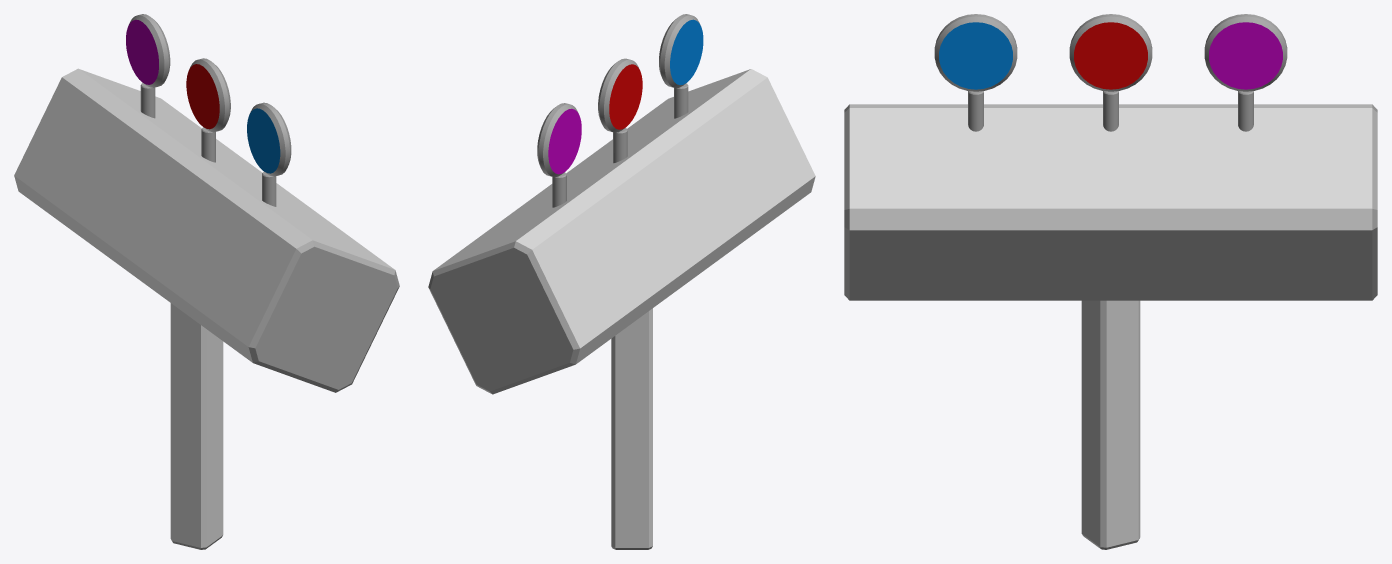
Rendered from WW_DrinkStand_Prop.fbx.
The picture shows the model from 3 angles, left to right: view 1: azimuth 30°, elevation 25°; view 2: azimuth 150°, elevation 25°; view 3: azimuth 270°, elevation 25°; orthographic projection. The views are drawn at different scales.
Visible parts, largest first — view 1: DrinkBase, DrinkBase1, DrinkSign (×3), DrinkSignBase; view 2: DrinkBase, DrinkBase1, DrinkSign (×3); view 3: DrinkBase, DrinkSign (×3), DrinkBase1.
Part boxes in pixels (x1=…): DrinkBase: x1=14, y1=68, x2=399, y2=392; DrinkBase1: x1=170, y1=303, x2=223, y2=549; DrinkSign (×3): x1=126, y1=14, x2=291, y2=176; DrinkSignBase: x1=140, y1=83, x2=155, y2=118; DrinkBase: x1=428, y1=69, x2=815, y2=394; DrinkBase1: x1=611, y1=308, x2=652, y2=549; DrinkSign (×3): x1=537, y1=14, x2=703, y2=177; DrinkBase: x1=844, y1=104, x2=1377, y2=300; DrinkSign (×3): x1=934, y1=14, x2=1287, y2=91; DrinkBase1: x1=1081, y1=300, x2=1140, y2=549.
Bounding box in the file's own units: 36.06 × 108 × 98.76.
